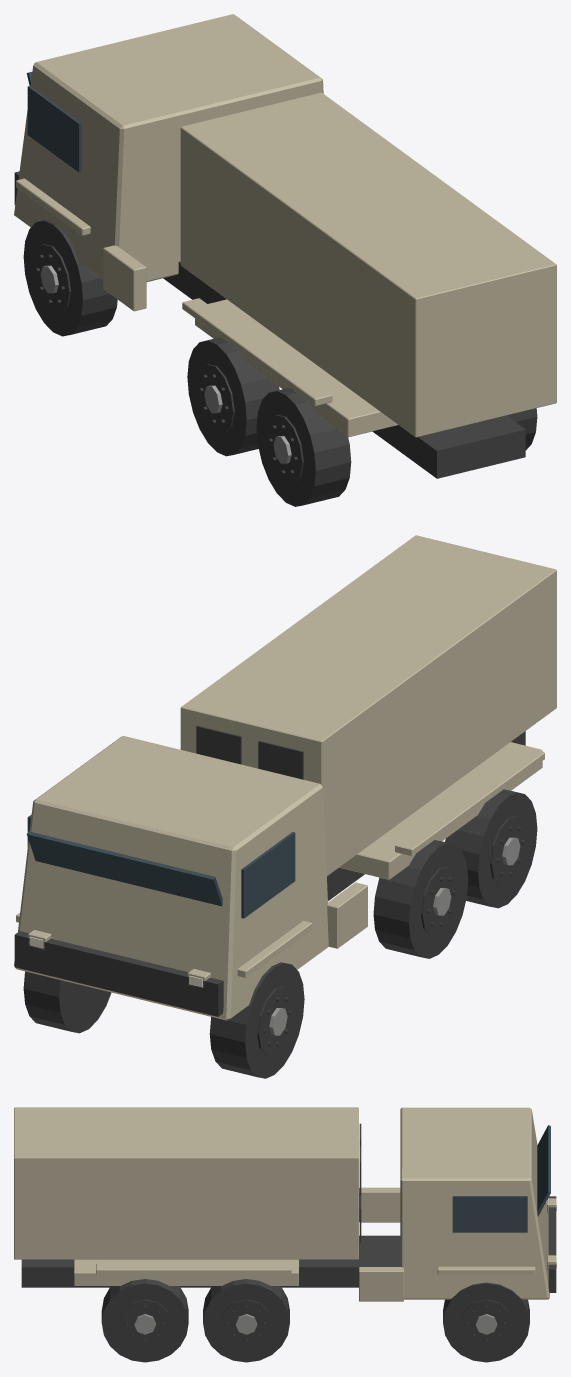
The model's file is usa_mlrs_typhon.glb.
3 views of the same model, one above another, from view 1: azimuth 30°, elevation 25°; view 2: azimuth 150°, elevation 25°; view 3: azimuth 270°, elevation 25° (orthographic). The views are drawn at different scales.
Visible parts, largest first — view 1: barrel, body, wheel_4, wheel_2, wheel_0, turret; view 2: body, barrel, wheel_2, wheel_0, wheel_4, turret, wheel_1; view 3: barrel, body, wheel_5, wheel_3, wheel_1, turret.
Boxes of the visible parts, x1,y1,x2,y2 form: barrel: (180,92,556,437); body: (14,14,525,478); wheel_4: (256,388,351,506); wheel_2: (187,337,279,456); wheel_0: (23,220,117,336); turret: (195,299,397,437); body: (14,731,544,1020); barrel: (180,535,556,875); wheel_2: (373,840,468,958); wheel_0: (209,962,304,1078); wheel_4: (445,789,537,908); turret: (339,742,542,879); wheel_1: (23,971,111,1033); barrel: (14,1107,361,1259); body: (21,1107,556,1301); wheel_5: (101,1279,188,1362); wheel_3: (203,1279,289,1362); wheel_1: (443,1282,529,1362); turret: (74,1259,298,1285).
Size of the model in its own units: 2.65 by 2.8 by 7.24.
